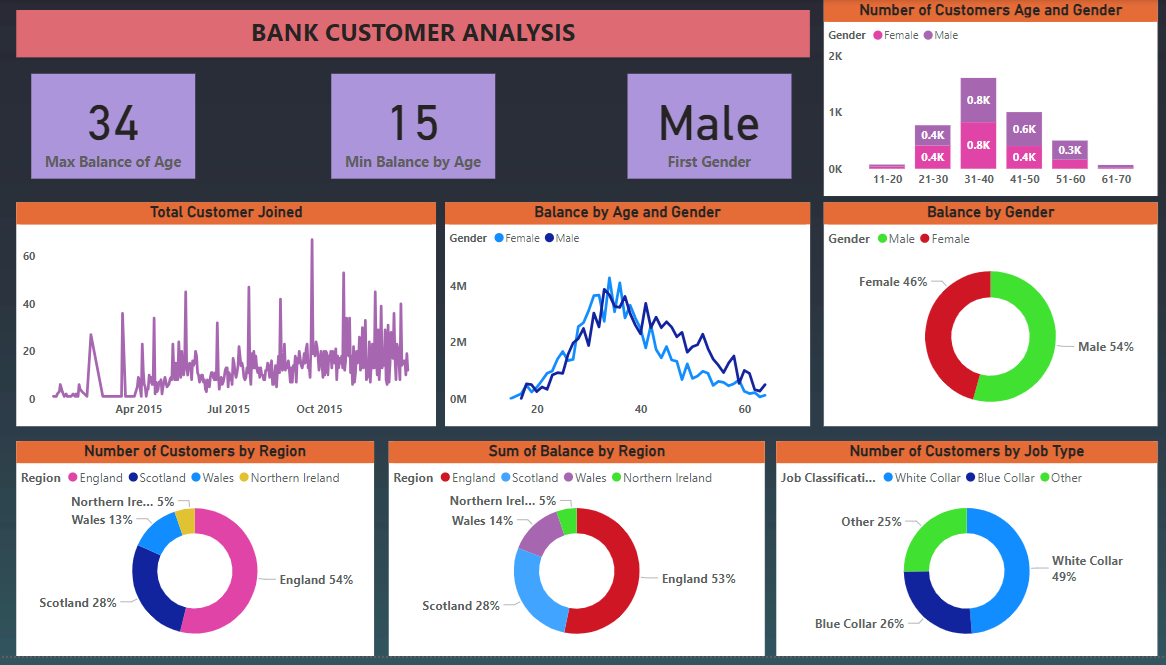

Layout of this report page (visuals, bound fields, positions):
{"tool":"powerbi","page":{"name":"Bank Data Analysis","canvas":[1280,720],"ordinal":0},"visuals":[{"type":"lineChart","title":" Balance by Age and Gender","fields":{"Y":["Sum(Bank Data Analysis.Balance)"],"Category":["Bank Data Analysis.Age"],"Series":["Bank Data Analysis.Gender"]},"box":[488.5,222.3,400.7,245.6],"z":0},{"type":"columnChart","title":" Number of Customers Age and Gender","fields":{"Y":["CountNonNull(Bank Data Analysis.Name.1)"],"Category":["Bank Data Analysis.Age Group"],"Series":["Bank Data Analysis.Gender"]},"box":[904.3,0,366.4,215.4],"z":1000},{"type":"donutChart","title":"Number of Customers by Region","fields":{"Y":["CountNonNull(Bank Data Analysis.Name.1)"],"Category":["Bank Data Analysis.Region"]},"box":[17.8,484.4,392.5,236],"z":2000},{"type":"donutChart","fields":{"Y":["Sum(Bank Data Analysis.Balance)"],"Category":["Bank Data Analysis.Region"]},"box":[426.8,484.4,413,236],"z":3000},{"type":"donutChart","title":"Number of Customers by Job Type","fields":{"Category":["Bank Data Analysis.Job Classification"],"Y":["CountNonNull(Bank Data Analysis.Name.1)"]},"box":[852.1,484.4,418.5,236],"z":4000},{"type":"donutChart","title":"Balance by Gender","fields":{"Category":["Bank Data Analysis.Gender"],"Y":["Sum(Bank Data Analysis.Balance)"]},"box":[904.3,222.3,366.4,245.6],"z":5000},{"type":"lineChart","title":"Total Customer Joined","fields":{"Y":["CountNonNull(Bank Data Analysis.Name.1)"],"Category":["Bank Data Analysis.Date Joined.Variation.Date Hierarchy.Year","Bank Data Analysis.Date Joined.Variation.Date Hierarchy.Quarter","Bank Data Analysis.Date Joined.Variation.Date Hierarchy.Month","Bank Data Analysis.Date Joined.Variation.Date Hierarchy.Day"]},"box":[17.8,222.3,461.1,245.6],"z":6000},{"type":"card","fields":{"Values":["Max(Bank Data Analysis.Age)"]},"box":[34.3,81,179.8,115.3],"z":7000},{"type":"card","fields":{"Values":["Min(Bank Data Analysis.Age)"]},"box":[363.6,81,179.8,115.3],"z":8000},{"type":"card","fields":{"Values":["Min(Bank Data Analysis.Gender)"]},"box":[688.9,81,179.8,115.3],"z":9000},{"type":"textbox","box":[17.8,11,871.4,52.1],"z":10000}]}

Visuals, with their boxes in screenshot pixels (x1, y1, x2, y2), scaled from the page's 1280x720 canvas onto the 1166x665 screenshot:
" Balance by Age and Gender" lineChart: box=[445, 205, 810, 432]
" Number of Customers Age and Gender" columnChart: box=[824, 0, 1158, 199]
"Number of Customers by Region" donutChart: box=[16, 447, 374, 664]
donutChart - Sum(Bank Data Analysis.Balance) x Bank Data Analysis.Region: box=[389, 447, 765, 664]
"Number of Customers by Job Type" donutChart: box=[776, 447, 1157, 664]
"Balance by Gender" donutChart: box=[824, 205, 1158, 432]
"Total Customer Joined" lineChart: box=[16, 205, 436, 432]
card - Max(Bank Data Analysis.Age): box=[31, 75, 195, 181]
card - Min(Bank Data Analysis.Age): box=[331, 75, 495, 181]
card - Min(Bank Data Analysis.Gender): box=[628, 75, 791, 181]
textbox: box=[16, 10, 810, 58]
